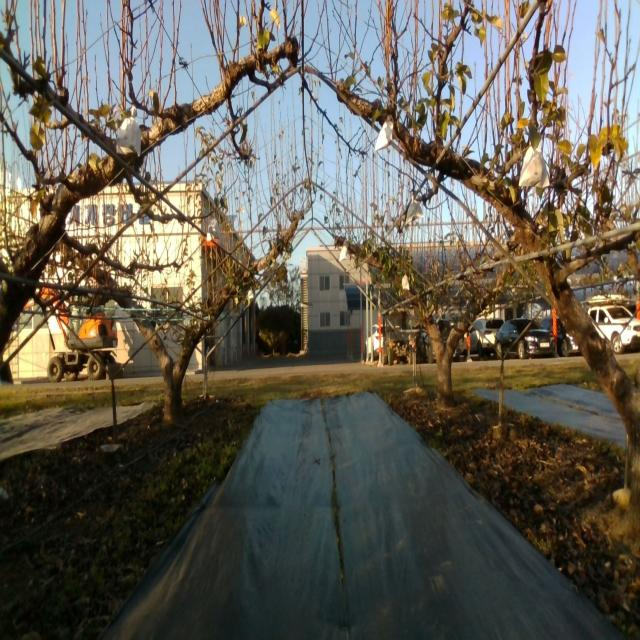pearbags: (517, 147, 550, 190), (116, 116, 141, 158), (404, 195, 424, 227), (375, 120, 393, 152), (206, 218, 223, 243)
